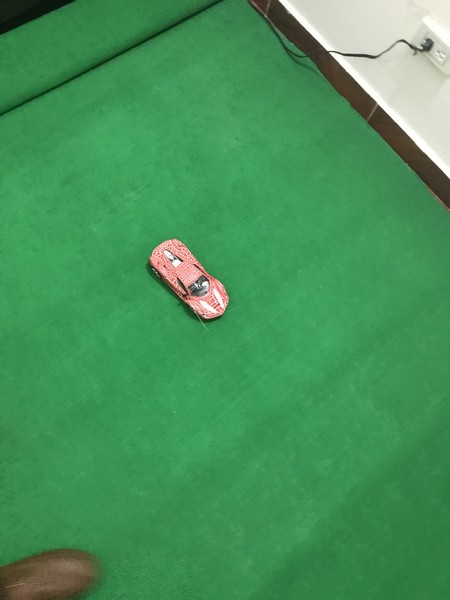RC: (146, 237, 232, 325)
